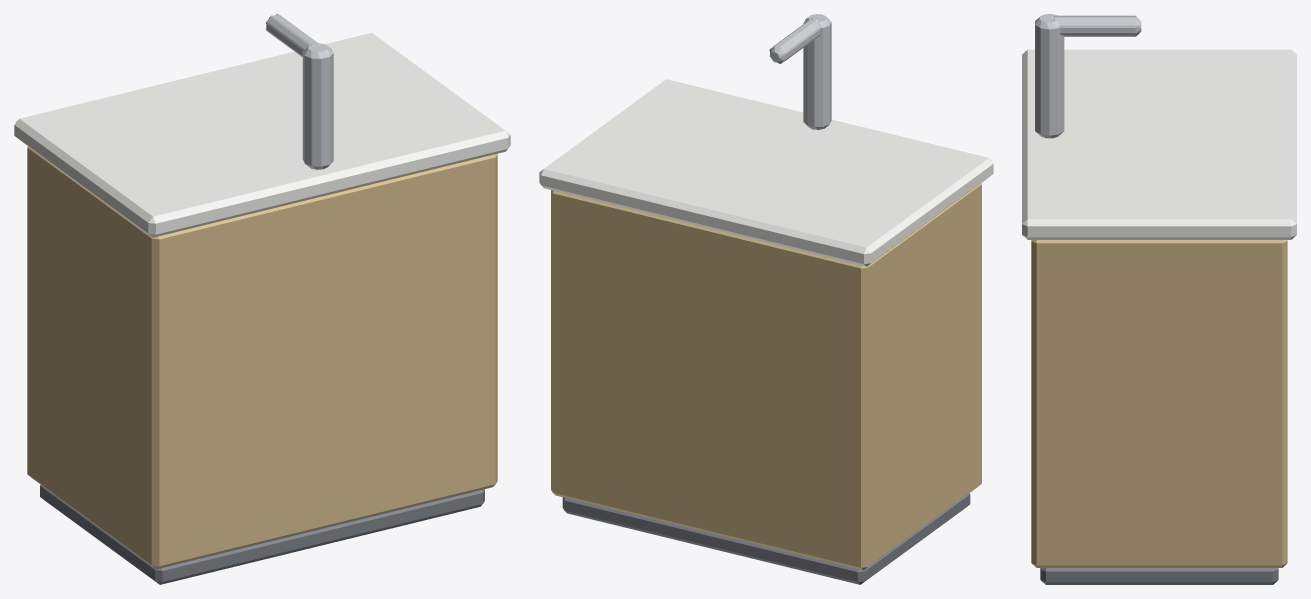
3 renders of one model, left to right at view 1: azimuth 30°, elevation 25°; view 2: azimuth 150°, elevation 25°; view 3: azimuth 270°, elevation 25°, orthographic. The views are drawn at different scales.
Parts seen in each view (by area): view 1: 柜体.004, 台面.002, 底脚.001, 龙头; view 2: 柜体.004, 台面.002, 底脚.001, 龙头; view 3: 柜体.004, 台面.002, 龙头, 底脚.001.
Part boxes in pixels (bbox=[...]): 柜体.004: bbox=[27, 146, 497, 569]; 台面.002: bbox=[14, 32, 510, 237]; 底脚.001: bbox=[40, 484, 484, 584]; 龙头: bbox=[265, 14, 333, 169]; 柜体.004: bbox=[551, 183, 981, 570]; 台面.002: bbox=[539, 79, 993, 266]; 底脚.001: bbox=[562, 493, 970, 584]; 龙头: bbox=[769, 14, 831, 129]; 柜体.004: bbox=[1031, 240, 1287, 567]; 台面.002: bbox=[1022, 49, 1296, 239]; 龙头: bbox=[1035, 14, 1141, 138]; 底脚.001: bbox=[1040, 568, 1278, 584].
Bounding box in the file's own units: 90 × 118 × 60.
